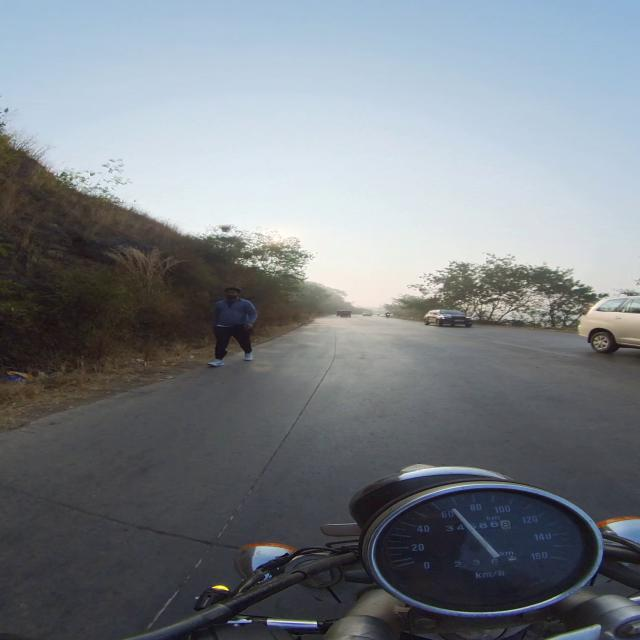car: (579, 296, 639, 353), (424, 310, 473, 327), (337, 310, 351, 317), (363, 312, 373, 316)
motorcycle: (131, 465, 639, 639)
